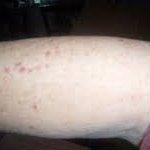Goosebumps: (0, 36, 149, 143)
